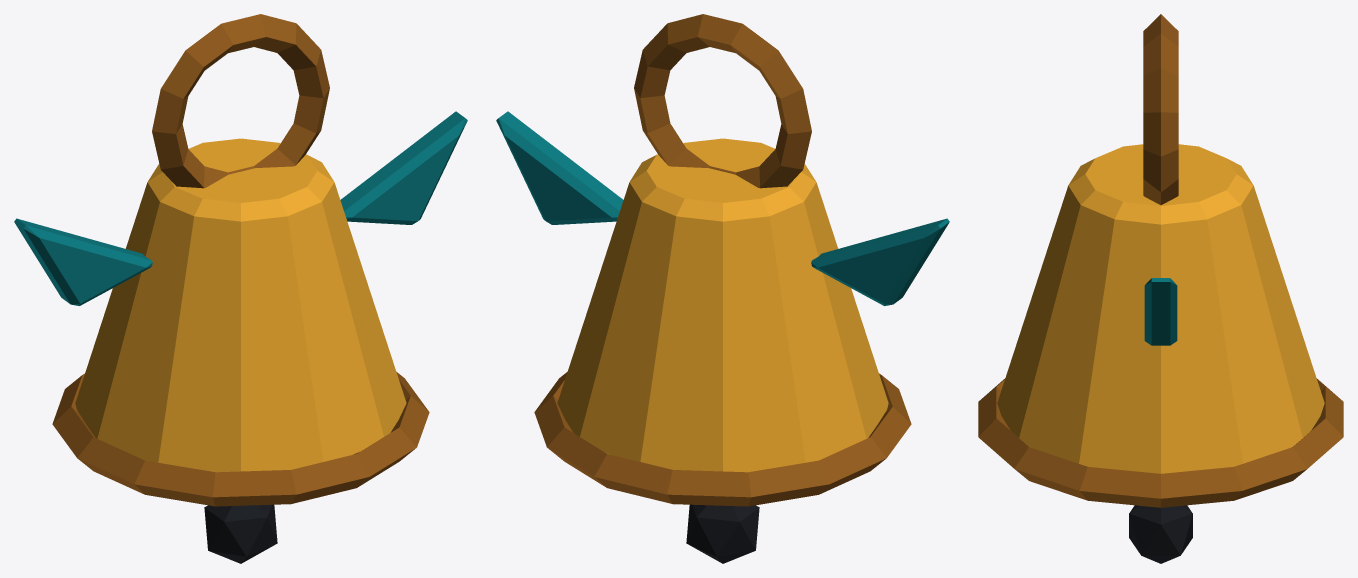
Rendered from qilin_bell.obj.
3 renders of one model, left to right at view 1: azimuth 30°, elevation 25°; view 2: azimuth 150°, elevation 25°; view 3: azimuth 270°, elevation 25°, orthographic.
Parts seen in each view (by area): view 1: QilinBell_Body.001_MAT_BrightGold, QilinBell_Rim.001_MAT_OldGold, QilinBell_Handle.001_MAT_OldGold, QilinBell_Horn1.001_MAT_Teal, QilinBell_Horn-1.001_MAT_Teal, QilinBell_ClapperBall.001_MAT_DarkIron; view 2: QilinBell_Body.001_MAT_BrightGold, QilinBell_Rim.001_MAT_OldGold, QilinBell_Handle.001_MAT_OldGold, QilinBell_Horn1.001_MAT_Teal, QilinBell_Horn-1.001_MAT_Teal, QilinBell_ClapperBall.001_MAT_DarkIron; view 3: QilinBell_Body.001_MAT_BrightGold, QilinBell_Rim.001_MAT_OldGold, QilinBell_Handle.001_MAT_OldGold, QilinBell_ClapperBall.001_MAT_DarkIron, QilinBell_Horn1.001_MAT_Teal.
Boxes of the visible parts, bbox=[...] form: QilinBell_Body.001_MAT_BrightGold: bbox=[75, 138, 406, 472]; QilinBell_Rim.001_MAT_OldGold: bbox=[52, 372, 429, 506]; QilinBell_Handle.001_MAT_OldGold: bbox=[152, 14, 329, 188]; QilinBell_Horn1.001_MAT_Teal: bbox=[340, 111, 467, 224]; QilinBell_Horn-1.001_MAT_Teal: bbox=[14, 218, 152, 305]; QilinBell_ClapperBall.001_MAT_DarkIron: bbox=[204, 504, 277, 563]; QilinBell_Body.001_MAT_BrightGold: bbox=[557, 138, 888, 472]; QilinBell_Rim.001_MAT_OldGold: bbox=[534, 372, 911, 506]; QilinBell_Handle.001_MAT_OldGold: bbox=[634, 14, 811, 188]; QilinBell_Horn1.001_MAT_Teal: bbox=[496, 111, 623, 224]; QilinBell_Horn-1.001_MAT_Teal: bbox=[811, 218, 949, 305]; QilinBell_ClapperBall.001_MAT_DarkIron: bbox=[686, 504, 759, 563]; QilinBell_Body.001_MAT_BrightGold: bbox=[997, 144, 1324, 473]; QilinBell_Rim.001_MAT_OldGold: bbox=[978, 378, 1343, 507]; QilinBell_Handle.001_MAT_OldGold: bbox=[1143, 14, 1178, 204]; QilinBell_ClapperBall.001_MAT_DarkIron: bbox=[1129, 505, 1192, 563]; QilinBell_Horn1.001_MAT_Teal: bbox=[1144, 278, 1177, 345].
Size of the model in its own units: 2.17 by 2.54 by 1.56.
